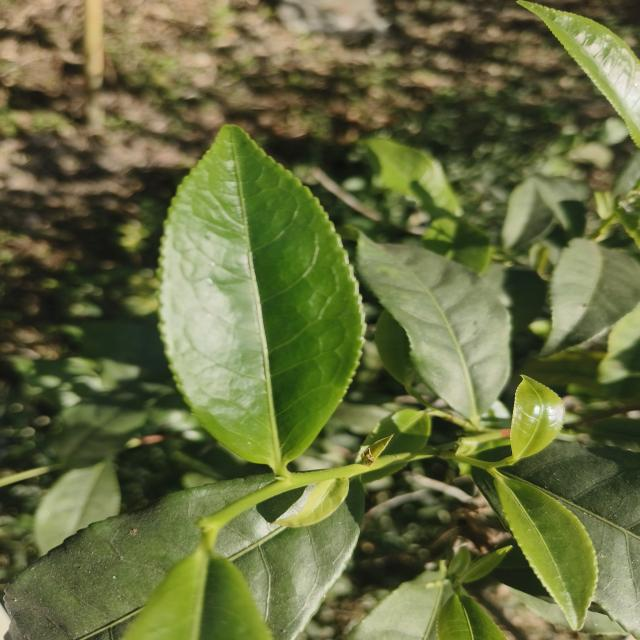Leaf: (159, 125, 364, 472), (4, 474, 270, 640), (356, 232, 511, 422), (503, 441, 640, 636), (216, 486, 364, 640), (518, 0, 640, 147), (493, 475, 598, 630), (123, 543, 271, 640), (540, 238, 640, 357), (34, 458, 120, 554), (366, 138, 462, 218), (345, 571, 451, 640), (53, 394, 150, 468), (510, 375, 564, 459), (423, 218, 490, 273), (275, 478, 349, 527), (501, 178, 552, 248), (360, 409, 431, 455), (436, 594, 504, 640), (375, 310, 415, 387), (361, 462, 407, 483)
